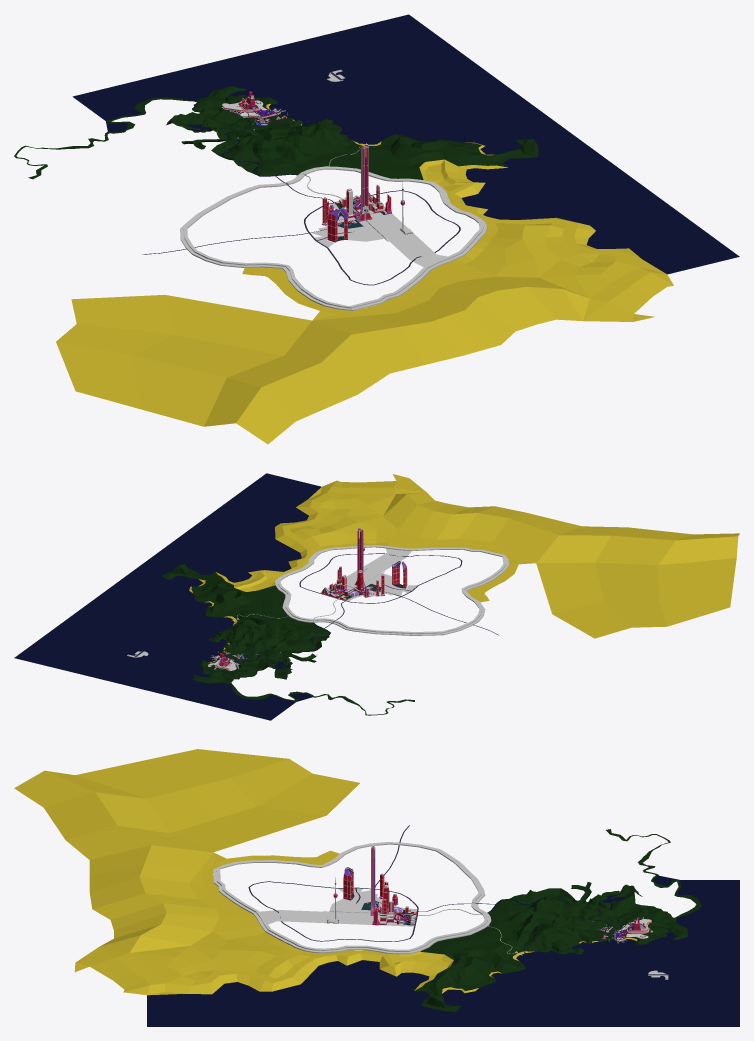
Rendered from city.obj.
3 renders of one model, top to bottom at view 1: azimuth 30°, elevation 25°; view 2: azimuth 150°, elevation 25°; view 3: azimuth 270°, elevation 25°, orthographic. The views are drawn at different scales.
Parts seen in each view (by area): view 1: city_Cube, Plane.013_Plane.009, Plane.014_Plane.011, Plane.004, city.002_Cube.008, Plane.005, Plane.001; view 2: city_Cube, Plane.013_Plane.009, Plane.004, Plane.014_Plane.011, Plane.005, city.002_Cube.008; view 3: city_Cube, Plane.013_Plane.009, Plane.014_Plane.011, city.002_Cube.008, Plane.004, Plane.005.
Part boxes in pixels (box(x1,y1,x2,y2)): city_Cube: box(14, 14, 739, 444); Plane.013_Plane.009: box(180, 166, 487, 310); Plane.014_Plane.011: box(367, 213, 446, 267); Plane.004: box(142, 181, 383, 254); city.002_Cube.008: box(217, 91, 285, 120); Plane.005: box(304, 184, 460, 285); Plane.001: box(353, 144, 388, 241); city_Cube: box(14, 473, 739, 720); Plane.013_Plane.009: box(275, 545, 508, 635); Plane.004: box(331, 573, 498, 635); Plane.014_Plane.011: box(346, 548, 411, 587); Plane.005: box(299, 553, 462, 603); city.002_Cube.008: box(198, 653, 249, 676); city_Cube: box(14, 749, 739, 1026); Plane.013_Plane.009: box(213, 842, 491, 954); Plane.014_Plane.011: box(260, 910, 380, 924); city.002_Cube.008: box(614, 914, 669, 944); Plane.004: box(329, 825, 589, 920); Plane.005: box(248, 881, 418, 941).
Bounding box in the file's own units: 15172 × 1932 × 16747.
